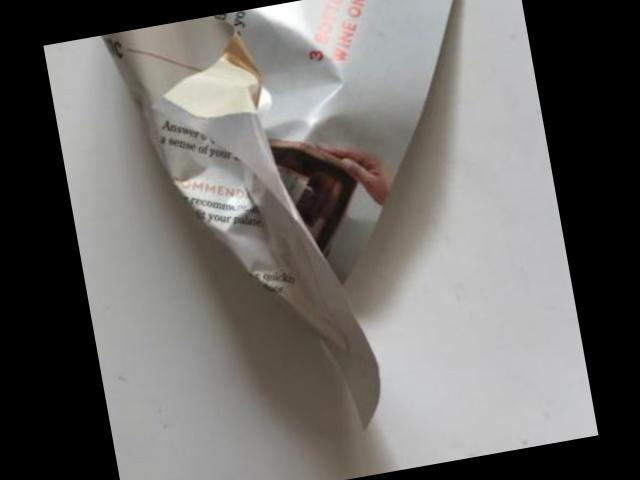cardboard paper: (104, 0, 451, 422)
